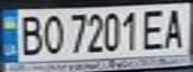0: (103, 9, 124, 53)
1: (118, 8, 142, 52)
2: (84, 10, 106, 54)
7: (66, 10, 87, 55)
A: (160, 4, 190, 51)
B: (15, 12, 45, 56)
E: (139, 6, 169, 51)
O: (39, 11, 66, 55)
